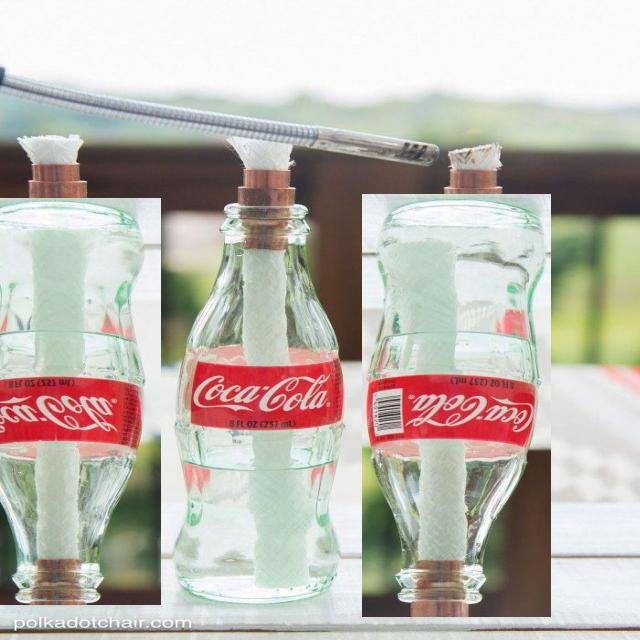coca-cola: (362, 194, 551, 617), (170, 194, 356, 604), (0, 198, 161, 605)
